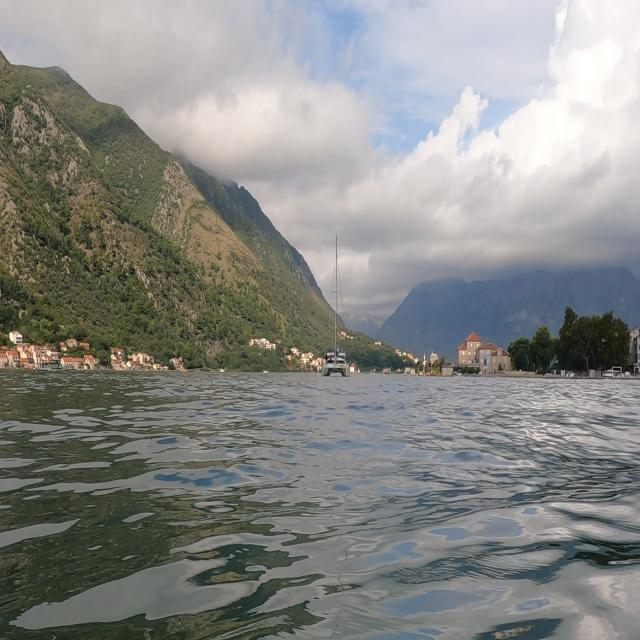boat: (320, 230, 352, 379)
